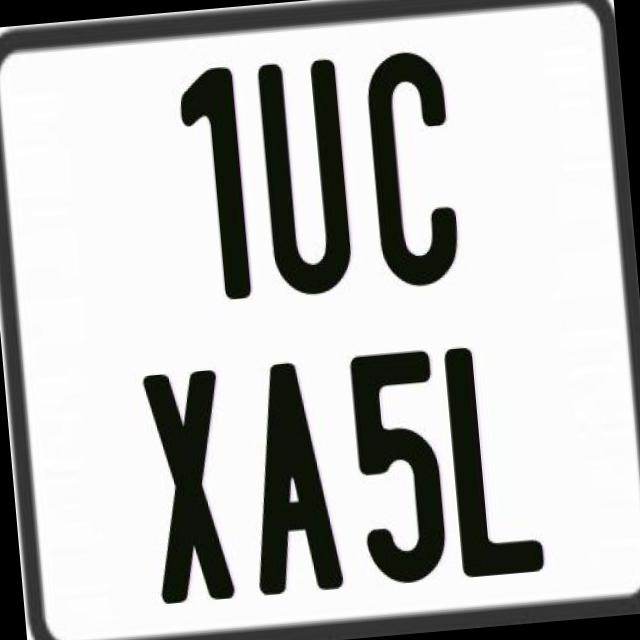1: (175, 61, 252, 305)
5: (344, 344, 448, 582)
A: (237, 358, 341, 596)
C: (361, 48, 464, 292)
L: (438, 337, 546, 576)
U: (252, 59, 353, 305)
X: (140, 366, 236, 610)
